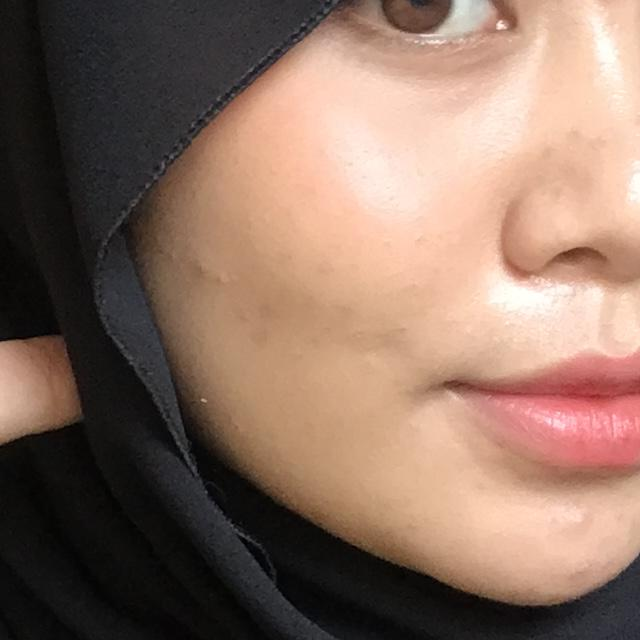mendengar: (0, 0, 325, 640)
